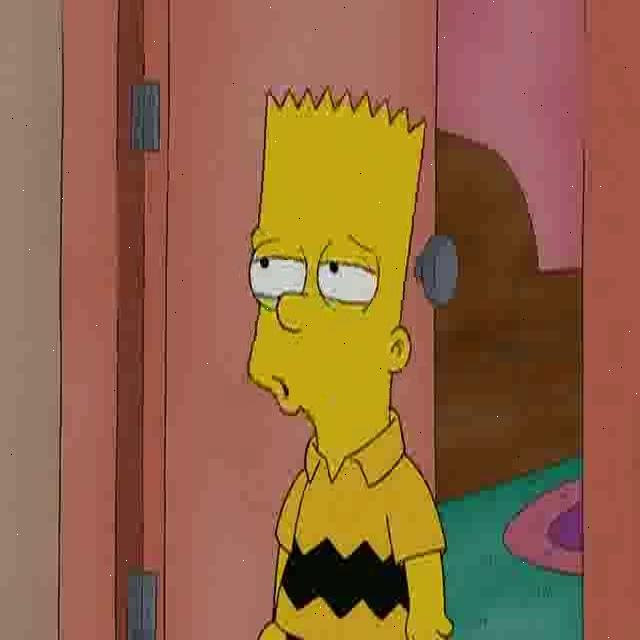Bart Simpson: (245, 85, 427, 459)
